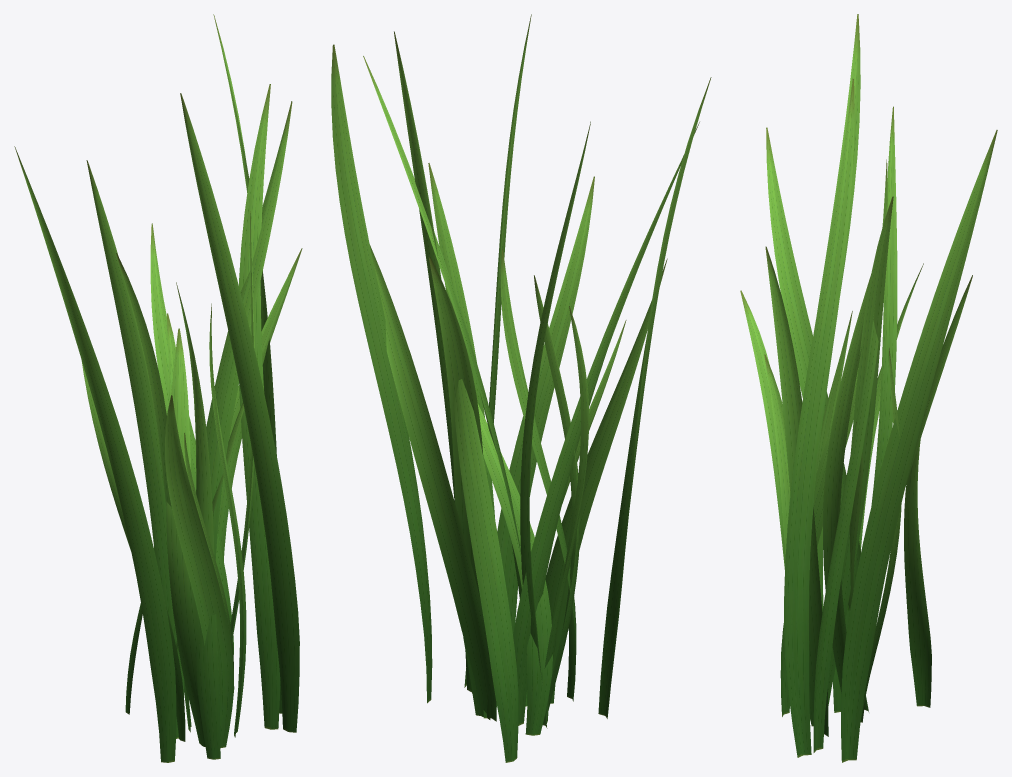
Rendered from prop_vallis.glb.
The picture shows the model from 3 angles, left to right: view 1: azimuth 30°, elevation 25°; view 2: azimuth 150°, elevation 25°; view 3: azimuth 270°, elevation 25°; orthographic projection. The views are drawn at different scales.
Parts seen in each view (by area): view 1: plant_leaf; view 2: plant_leaf; view 3: plant_leaf.
Part boxes in pixels (<box>): plant_leaf: <box>14,14,302,762</box>; plant_leaf: <box>331,14,711,762</box>; plant_leaf: <box>740,14,997,762</box>.
Size of the model in its own units: 0.4891 by 0.9848 by 0.3609.
1 material, 1 textured.
